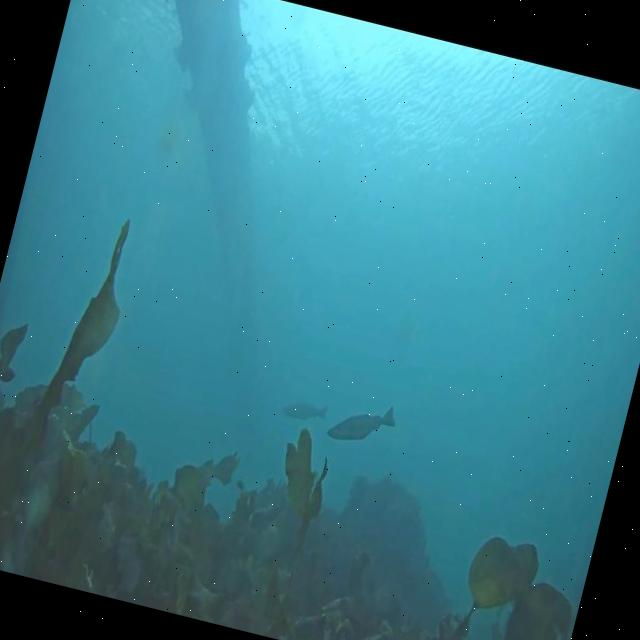fish: (323, 385, 403, 457), (276, 388, 330, 430)
